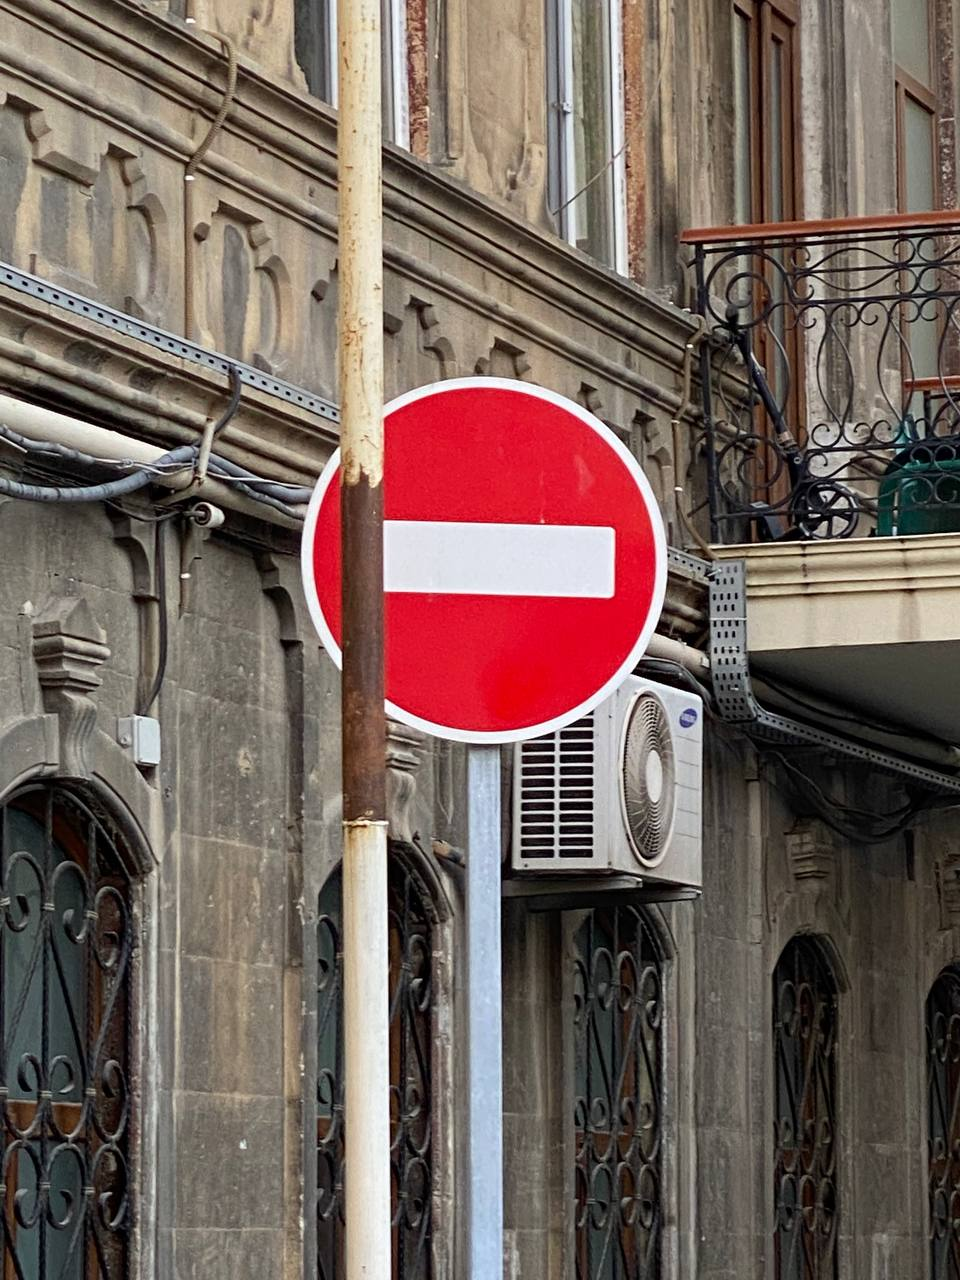No Entry: (301, 376, 668, 745)
